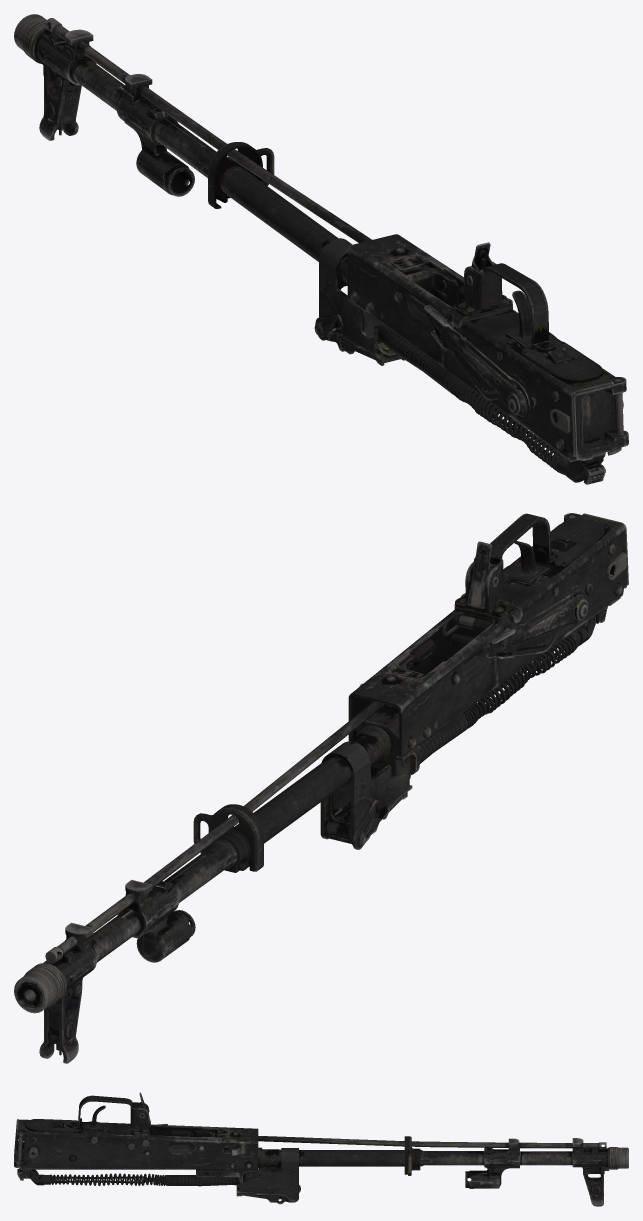
The picture shows the model from 3 angles, top to bottom: view 1: azimuth 30°, elevation 25°; view 2: azimuth 150°, elevation 25°; view 3: azimuth 270°, elevation 25°; orthographic projection. The views are drawn at different scales.
Parts seen in each view (by area): view 1: TW_5bf3e0490db83400196199af_PZ_Import; view 2: TW_5bf3e0490db83400196199af_PZ_Import; view 3: TW_5bf3e0490db83400196199af_PZ_Import.
Part boxes in pixels (x1=…): TW_5bf3e0490db83400196199af_PZ_Import: x1=14, y1=14, x2=628, y2=484; TW_5bf3e0490db83400196199af_PZ_Import: x1=14, y1=513, x2=628, y2=1063; TW_5bf3e0490db83400196199af_PZ_Import: x1=14, y1=1092, x2=628, y2=1206.
Bounding box in the file's own units: 0.0285 × 0.373 × 0.0735.
1 material, 1 textured.
